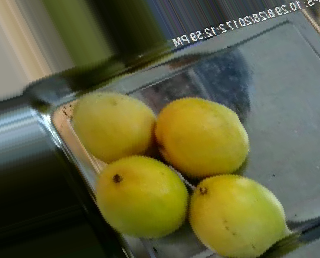Mango: (186, 172, 292, 253), (95, 154, 190, 244), (154, 94, 254, 176), (73, 90, 157, 159)
